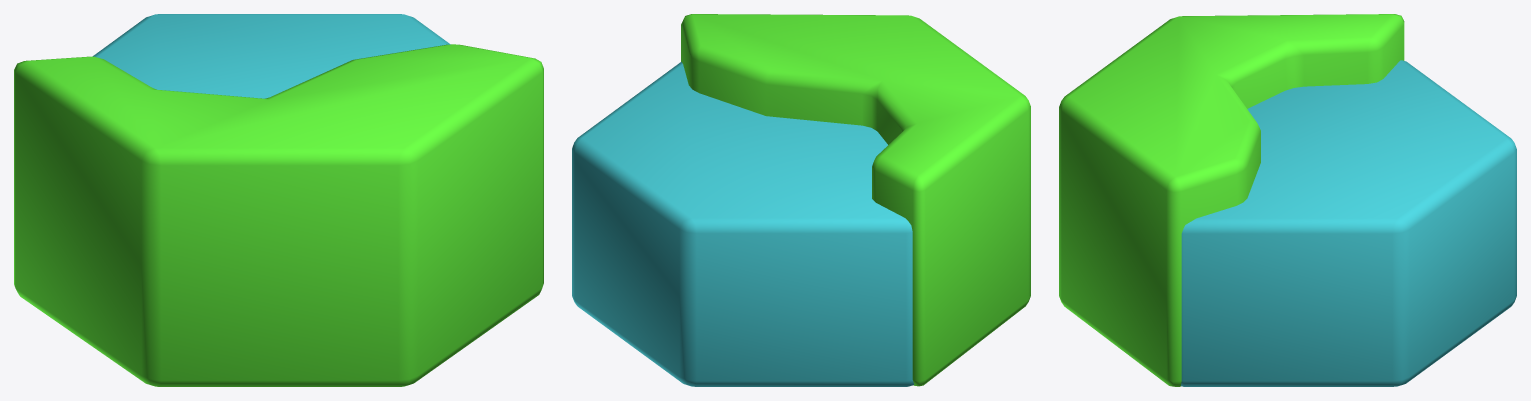
The model's file is grass_water2.glb.
3 views of the same model, side by side, from view 1: azimuth 30°, elevation 25°; view 2: azimuth 150°, elevation 25°; view 3: azimuth 270°, elevation 25° (orthographic). The views are drawn at different scales.
Visible parts, largest first — view 1: grass_water2; view 2: grass_water2; view 3: grass_water2.
Part boxes in pixels (box(x1,y1,x2,y2)): grass_water2: box(14, 14, 543, 386); grass_water2: box(572, 14, 1030, 386); grass_water2: box(1059, 14, 1516, 386).
Bounding box in the file's own units: 7.04 × 4 × 7.9.
